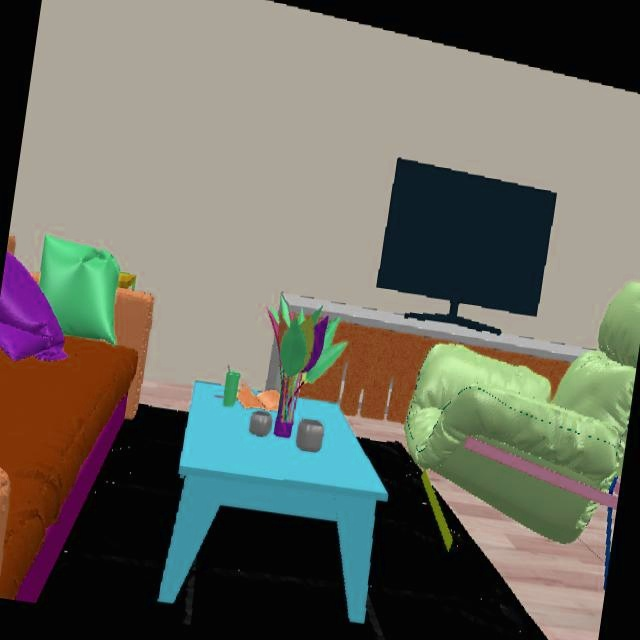monitor: (373, 159, 556, 318)
pillow: (0, 234, 121, 363)
sofa: (0, 289, 154, 602), (403, 347, 636, 546)
table: (158, 381, 387, 626)
